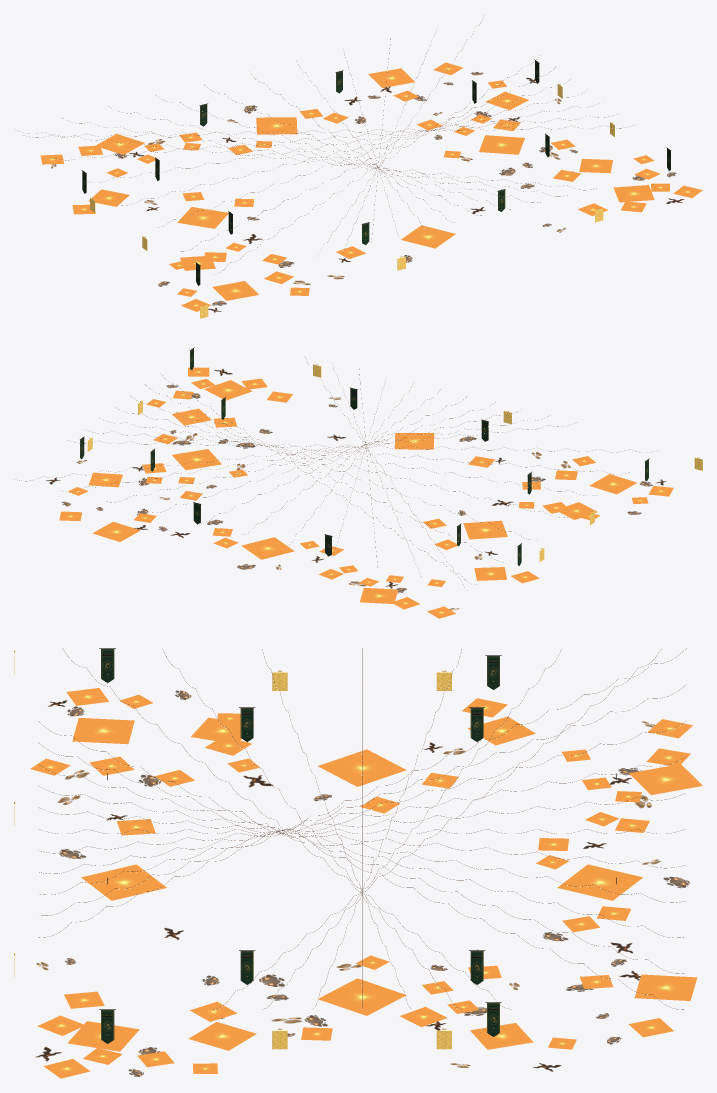
Rendered from sp_royale_decor.glb.
The picture shows the model from 3 angles, top to bottom: view 1: azimuth 30°, elevation 25°; view 2: azimuth 150°, elevation 25°; view 3: azimuth 270°, elevation 25°; orthographic projection. The views are drawn at different scales.
Visible parts, largest first — view 1: spire; view 2: spire; view 3: spire.
Part boxes in pixels (<box>): spire: <box>18,17,702,318</box>; spire: <box>14,347,702,618</box>; spire: <box>14,648,702,1078</box>.
Size of the model in its own units: 114 by 7.54 by 83.92.
Materials: 10 (9 with a texture image).
